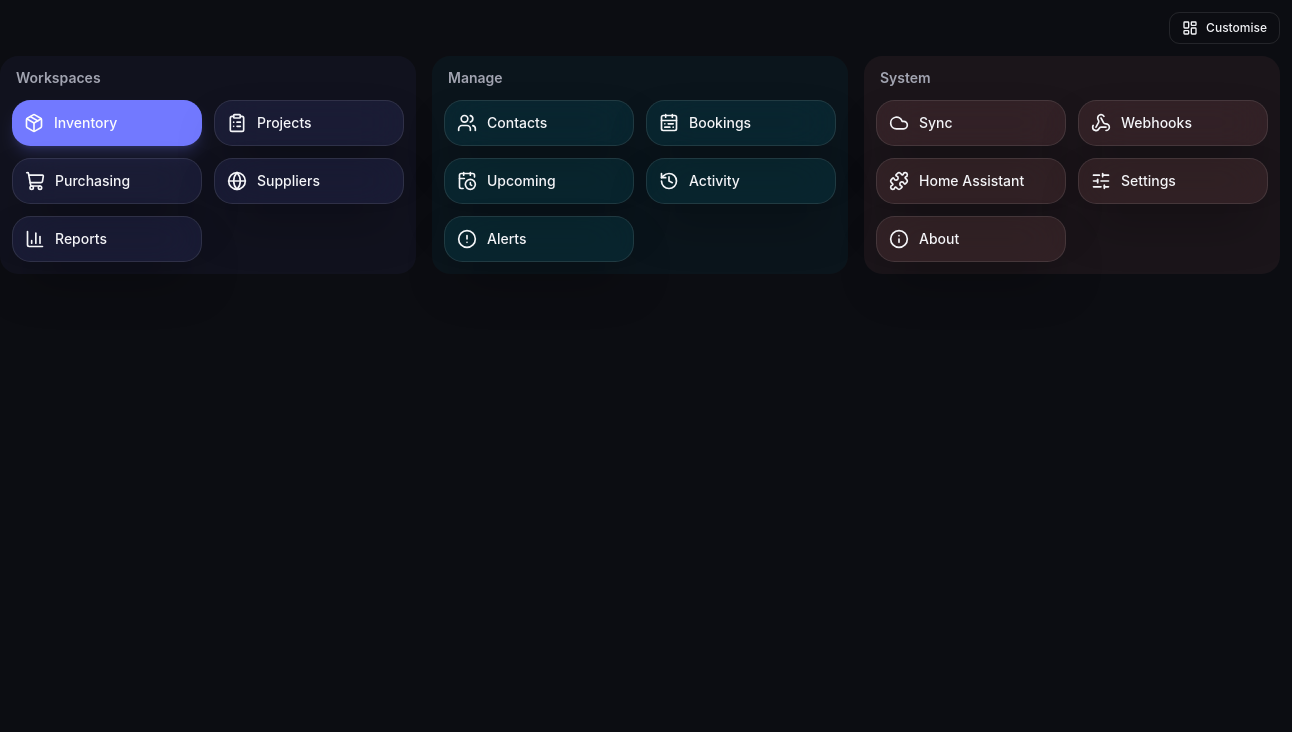
Scenario: DashboardNav — reorder & pin (backlog B1) › disables the move controls at a group edge (first tile can’t move up or to a prior group)
Click the button with test id "customise-nav": (1225, 28) [1169,12,1280,44]
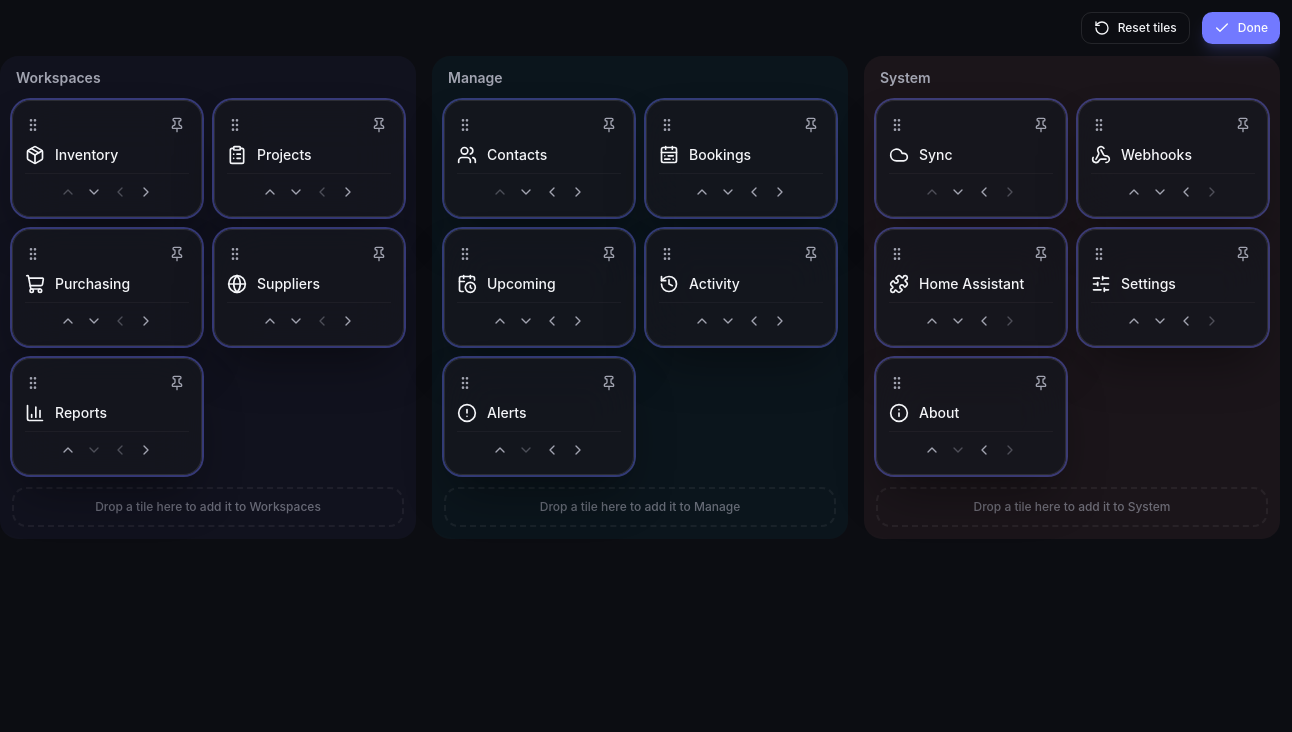
Expected: the button with test id "nav-move-/inventory-up" is disabled, [56,180,80,204]
Expected: the button with test id "nav-move-/inventory-left" is disabled, [108,180,132,204]
